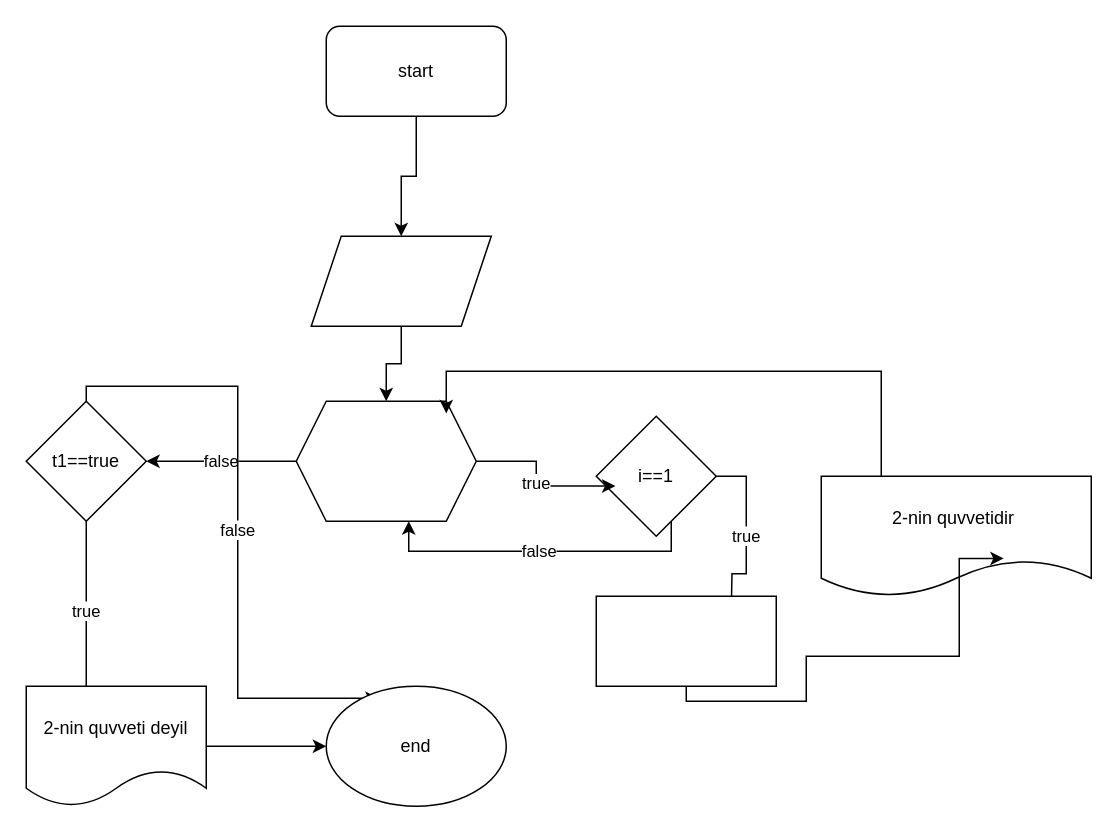
This 1118x833 diagram has some shape labels left out. The centre of each missing label's shape, as x and y in pixels:
i=n;i>=1;i=i/2: (x=385, y=460)
int n bool t=true: (x=400, y=280)
t=false: (x=685, y=640)
